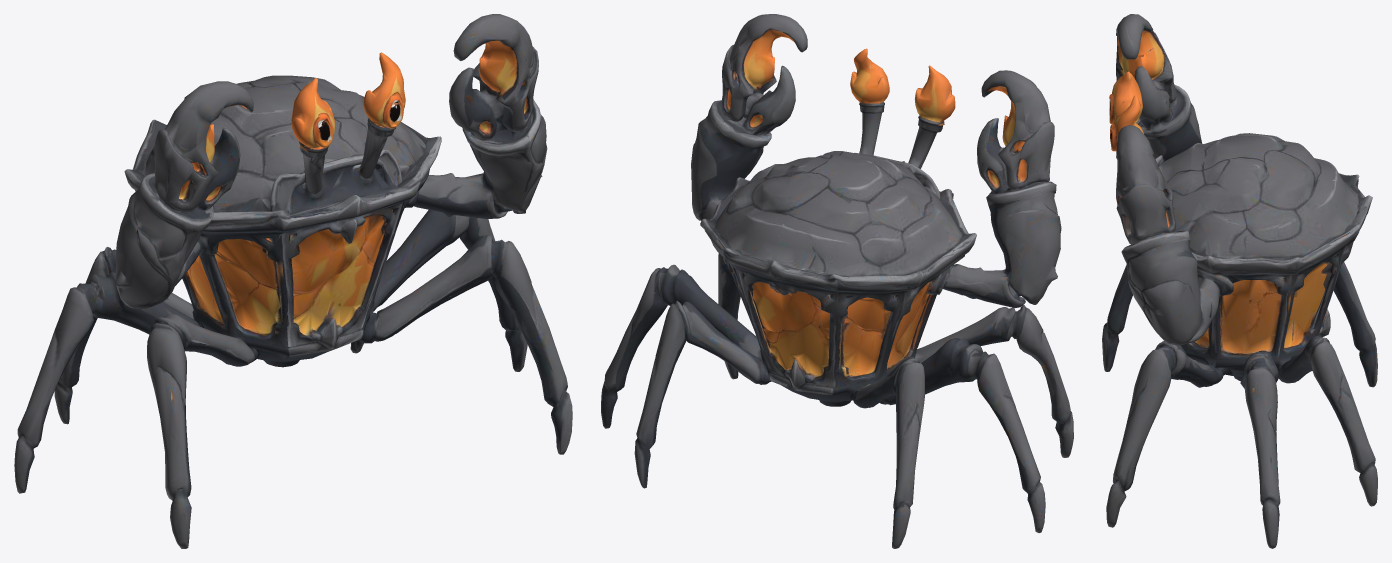
3 renders of one model, left to right at view 1: azimuth 30°, elevation 25°; view 2: azimuth 150°, elevation 25°; view 3: azimuth 270°, elevation 25°, orthographic. The views are drawn at different scales.
Visible parts, largest first — view 1: Mesh_0; view 2: Mesh_0; view 3: Mesh_0.
Part boxes in pixels (x1=…): Mesh_0: x1=14, y1=14, x2=572, y2=548; Mesh_0: x1=601, y1=14, x2=1073, y2=548; Mesh_0: x1=1102, y1=14, x2=1377, y2=548.
Size of the model in its own units: 1.9 by 1.57 by 1.05.
Materials: 1 (1 with a texture image).
